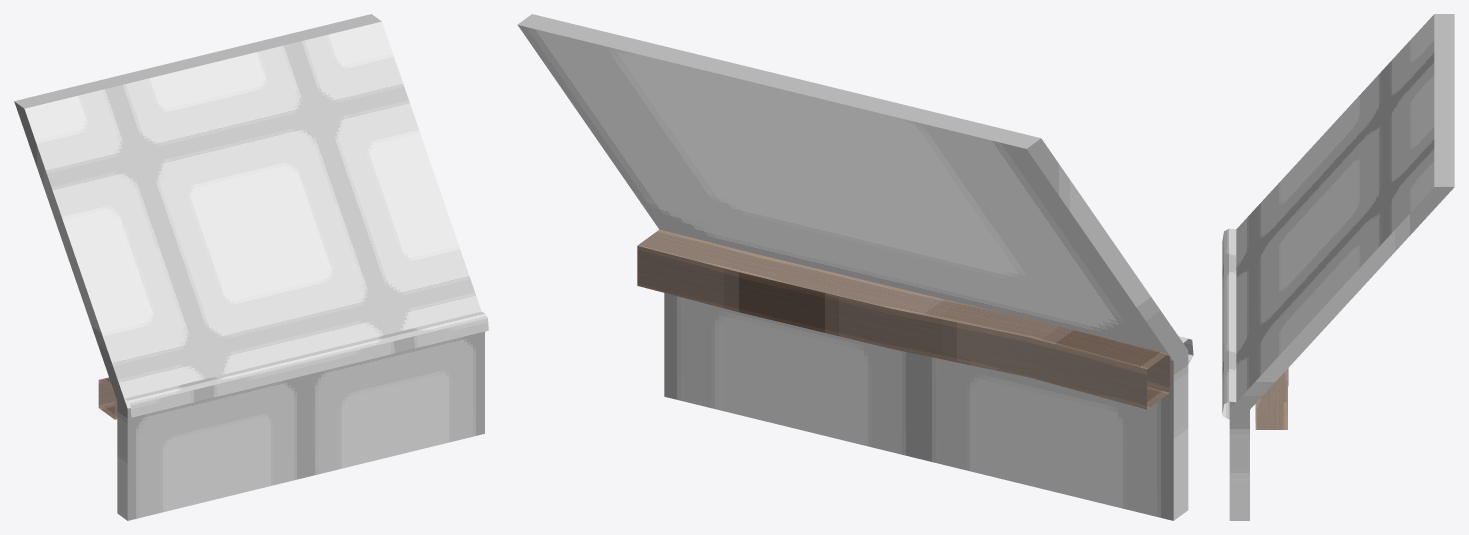
The model's file is SM_Roof_01.fbx.
3 renders of one model, left to right at view 1: azimuth 30°, elevation 25°; view 2: azimuth 150°, elevation 25°; view 3: azimuth 270°, elevation 25°, orthographic. The views are drawn at different scales.
Parts seen in each view (by area): view 1: SM_Roof_01_LOD0; view 2: SM_Roof_01_LOD0; view 3: SM_Roof_01_LOD0.
Boxes of the visible parts, left/top/right/bottom form: SM_Roof_01_LOD0: left=14, top=14, right=488, bottom=520; SM_Roof_01_LOD0: left=517, top=14, right=1193, bottom=520; SM_Roof_01_LOD0: left=1222, top=14, right=1454, bottom=520.
Size of the model in its own units: 1000 by 568 by 900.
